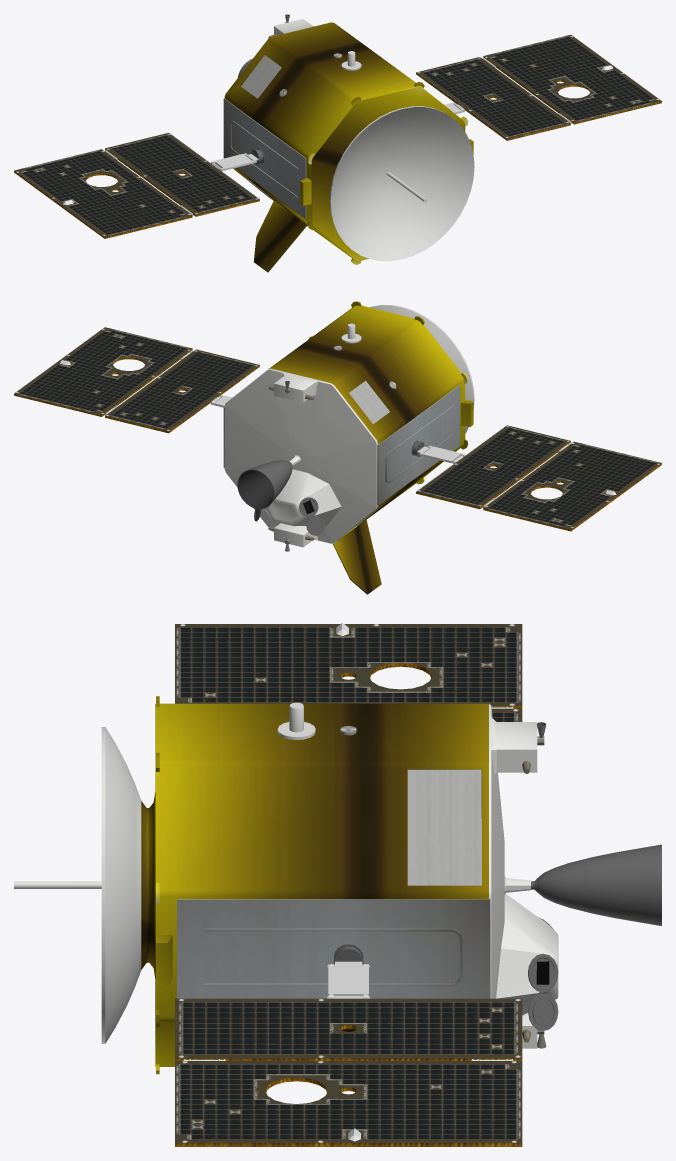
File: clementine_lod0.glb
3 renders of one model, top to bottom at view 1: azimuth 30°, elevation 25°; view 2: azimuth 150°, elevation 25°; view 3: azimuth 270°, elevation 25°, orthographic. The views are drawn at different scales.
Visible parts, largest first — view 1: clementine_lod0; view 2: clementine_lod0; view 3: clementine_lod0.
Boxes of the visible parts, x1,y1,x2,y2 form: clementine_lod0: (14, 14, 661, 272); clementine_lod0: (14, 301, 661, 594); clementine_lod0: (14, 623, 661, 1146).
Bounding box in the file's own units: 3.79 × 1.47 × 2.
Materials: 7 (3 with a texture image).
